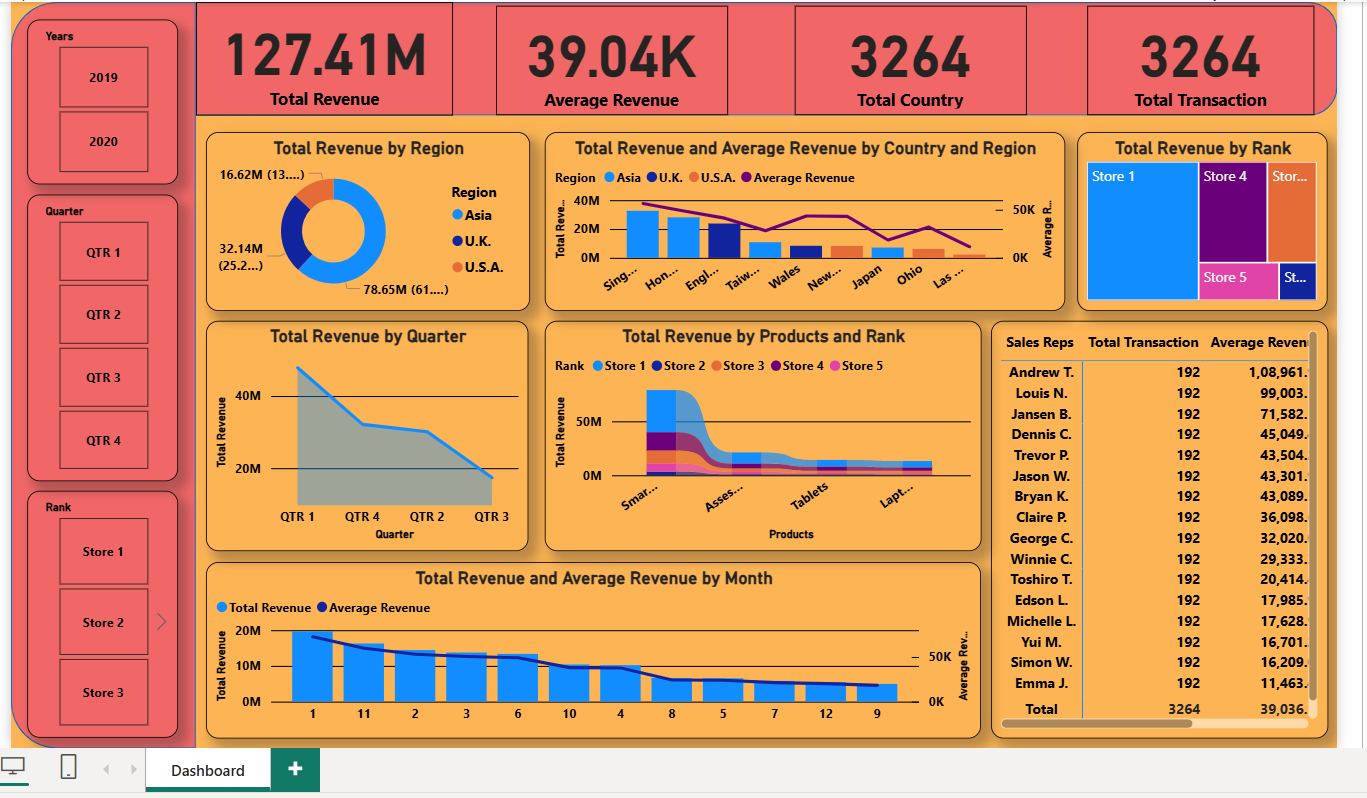

The page's visual inventory and layout, read from the dashboard file:
{"tool":"powerbi","page":{"name":"Dashboard","canvas":[1280,720],"ordinal":0},"visuals":[{"type":"shape","box":[0,0,178.4,720.4],"z":0},{"type":"shape","box":[178.4,0,1101.9,109.8],"z":1000},{"type":"card","fields":{"Values":["Measures (2).Total Revenue"]},"box":[178.4,0,248.4,109.8],"z":2000},{"type":"card","fields":{"Values":["Measures (2).Average Revenue"]},"box":[467.9,4.1,223.7,105.7],"z":3000},{"type":"card","fields":{"Values":["Measures (2).Total Country"]},"box":[756.1,4.1,223.7,105.7],"z":4000},{"type":"card","fields":{"Values":["Measures (2).Total Transaction"]},"box":[1038.8,4.1,219.6,105.7],"z":5000},{"type":"donutChart","fields":{"Category":["Sheet1.Region"],"Y":["Measures (2).Total Revenue"]},"box":[188,124.9,312.9,172.9],"z":6000},{"type":"lineStackedColumnComboChart","fields":{"Category":["Sheet1.Country"],"Y":["Measures (2).Total Revenue"],"Y2":["Measures (2).Average Revenue"],"Series":["Sheet1.Region"]},"box":[514.6,124.9,502.2,172.9],"z":7000},{"type":"treemap","fields":{"Group":["Sheet1.Rank"],"Values":["Measures (2).Total Revenue"]},"box":[1029.2,124.9,241.5,172.9],"z":8000},{"type":"areaChart","fields":{"Y":["Measures (2).Total Revenue"],"Category":["Sheet1.Quarter"]},"box":[188,307.4,311.5,222.3],"z":9000},{"type":"ribbonChart","fields":{"Series":["Sheet1.Rank"],"Y":["Measures (2).Total Revenue"],"Category":["Sheet1.Products"]},"box":[514.6,307.4,421.3,222.3],"z":10000},{"type":"pivotTable","fields":{"Rows":["Sheet1.Sales Reps"],"Values":["Measures (2).Total Transaction","Measures (2).Average Revenue","Measures (2).Total Revenue"]},"box":[945.5,307.4,325.2,403.4],"z":11000},{"type":"lineStackedColumnComboChart","fields":{"Y":["Measures (2).Total Revenue"],"Y2":["Measures (2).Average Revenue"],"Category":["Sheet1.Month"]},"box":[188,540.7,747.9,170.2],"z":11001},{"type":"slicer","fields":{"Values":["Sheet1.Rank"]},"box":[15.1,472,145.5,238.8],"z":11002},{"type":"slicer","fields":{"Values":["Sheet1.Quarter"]},"box":[15.1,185.2,145.5,277.2],"z":11003},{"type":"slicer","fields":{"Values":["Sheet1.Years"]},"box":[15.1,16.5,145.5,159.2],"z":11004}]}

Visuals, with their boxes in screenshot pixels (x1, y1, x2, y2):
shape: BBox(4, 0, 191, 755)
shape: BBox(191, 0, 1352, 112)
card - Measures (2).Total Revenue: BBox(191, 0, 453, 112)
card - Measures (2).Average Revenue: BBox(496, 1, 732, 112)
card - Measures (2).Total Country: BBox(800, 1, 1035, 112)
card - Measures (2).Total Transaction: BBox(1098, 1, 1329, 112)
donutChart - Sheet1.Region x Measures (2).Total Revenue: BBox(202, 128, 531, 310)
lineStackedColumnComboChart - Sheet1.Country x Measures (2).Total Revenue: BBox(546, 128, 1074, 310)
treemap - Sheet1.Rank x Measures (2).Total Revenue: BBox(1088, 128, 1342, 310)
areaChart - Measures (2).Total Revenue x Sheet1.Quarter: BBox(202, 320, 530, 554)
ribbonChart - Sheet1.Rank x Measures (2).Total Revenue: BBox(546, 320, 989, 554)
pivotTable - Sheet1.Sales Reps x Measures (2).Total Transaction: BBox(999, 320, 1342, 745)
lineStackedColumnComboChart - Measures (2).Total Revenue x Measures (2).Average Revenue: BBox(202, 566, 989, 745)
slicer - Sheet1.Rank: BBox(19, 494, 173, 745)
slicer - Sheet1.Quarter: BBox(19, 191, 173, 483)
slicer - Sheet1.Years: BBox(19, 14, 173, 181)
